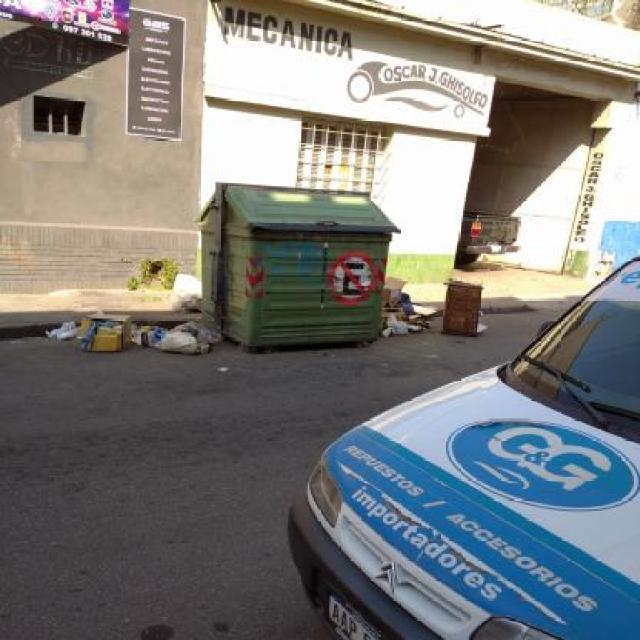garbage: (58, 291, 240, 374), (375, 271, 498, 356)
